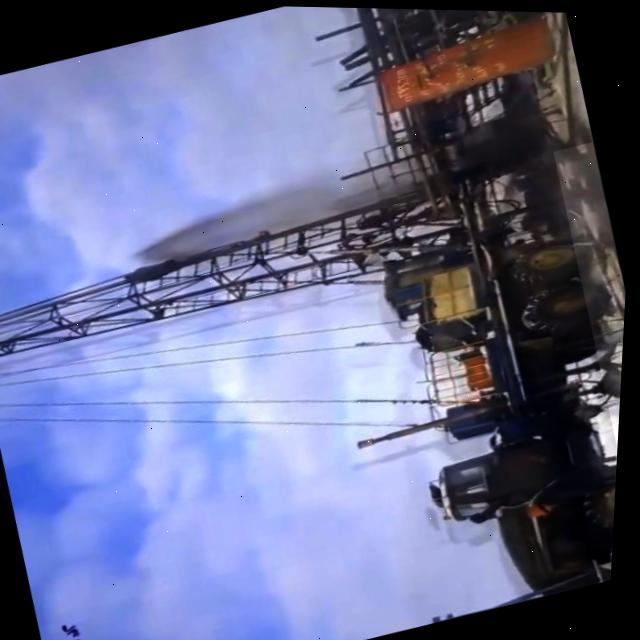spillage: (555, 138, 629, 445)
